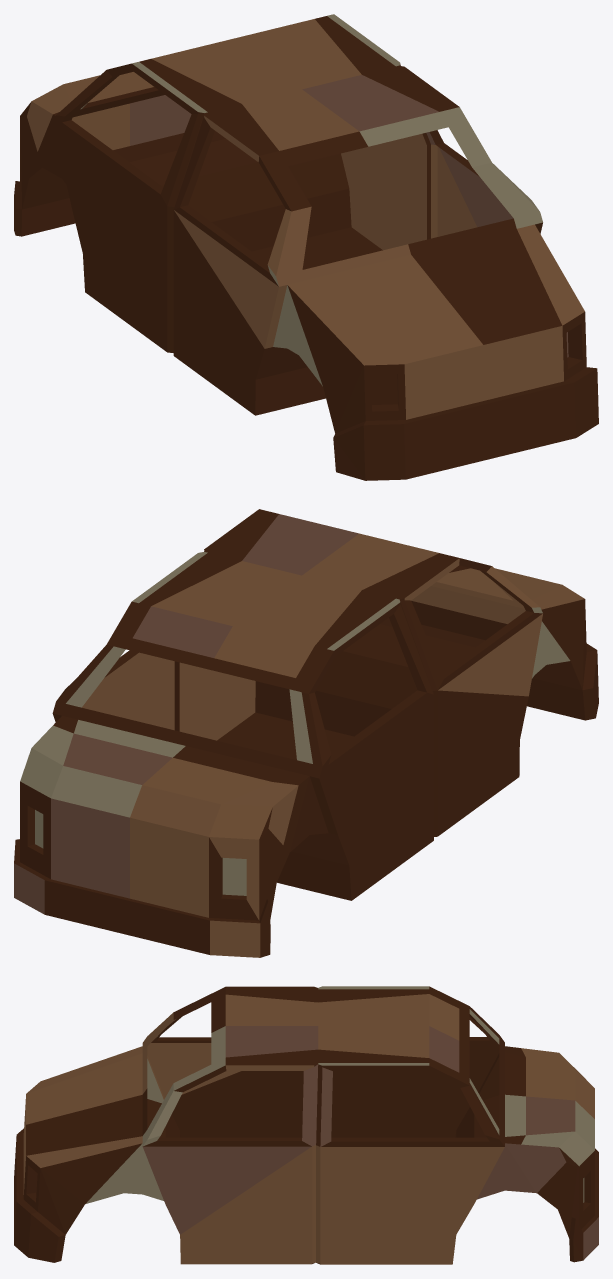
File: BurntCar2.gltf
3 renders of one model, top to bottom at view 1: azimuth 30°, elevation 25°; view 2: azimuth 150°, elevation 25°; view 3: azimuth 270°, elevation 25°, orthographic. The views are drawn at different scales.
Visible parts, largest first — view 1: Car_2; view 2: Car_2; view 3: Car_2.
Boxes of the visible parts, box(x1,y1,x2,y2) form: Car_2: box(14, 14, 598, 480); Car_2: box(14, 509, 598, 957); Car_2: box(14, 986, 598, 1264).
Size of the model in its own units: 4.07 by 3.38 by 9.62.
